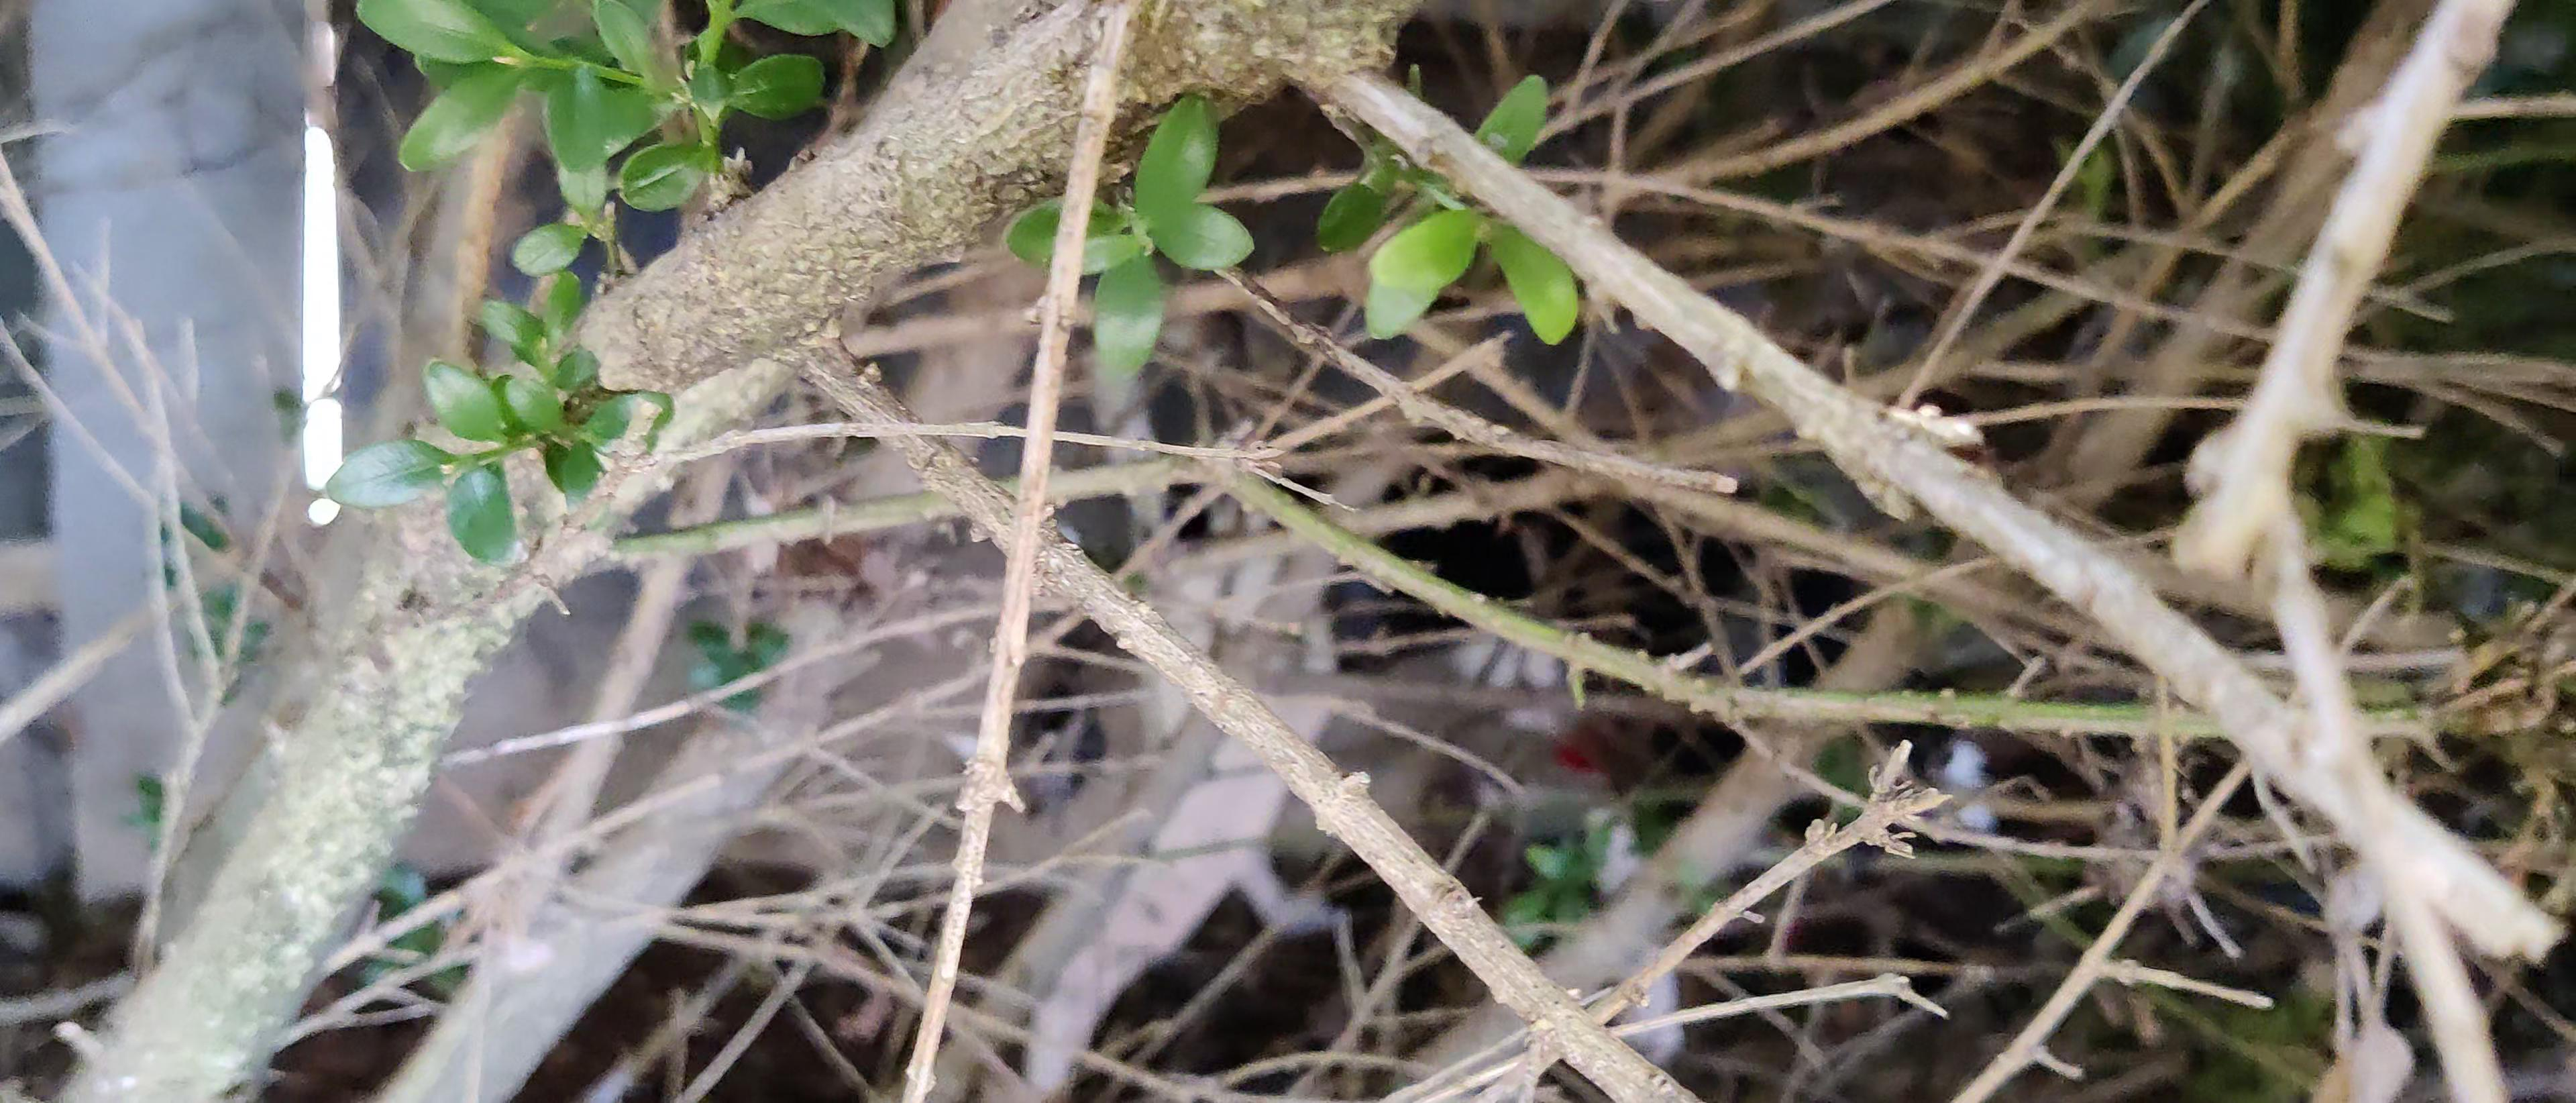Dog: (991, 335, 1771, 1098)
